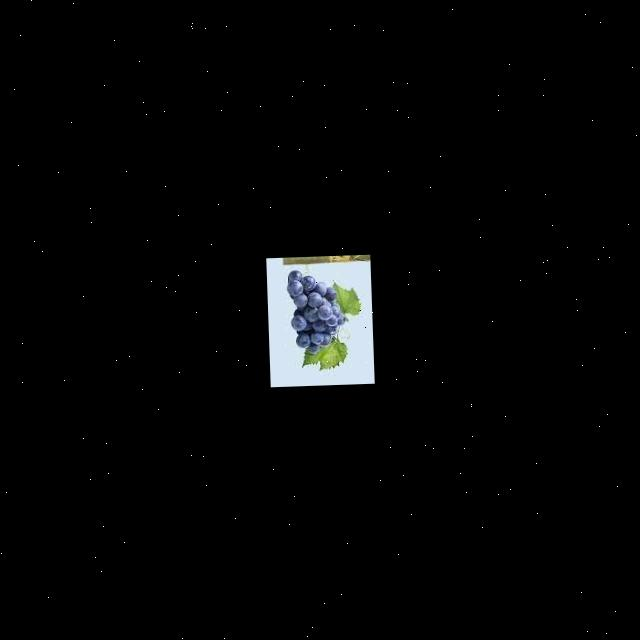grape: (287, 268, 350, 354)
